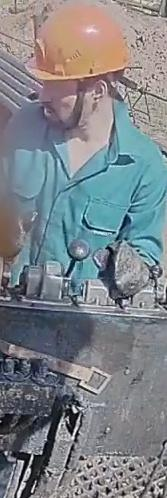gloves: (91, 240, 154, 299)
helmet: (24, 2, 131, 94)
vest: (1, 96, 166, 295)
